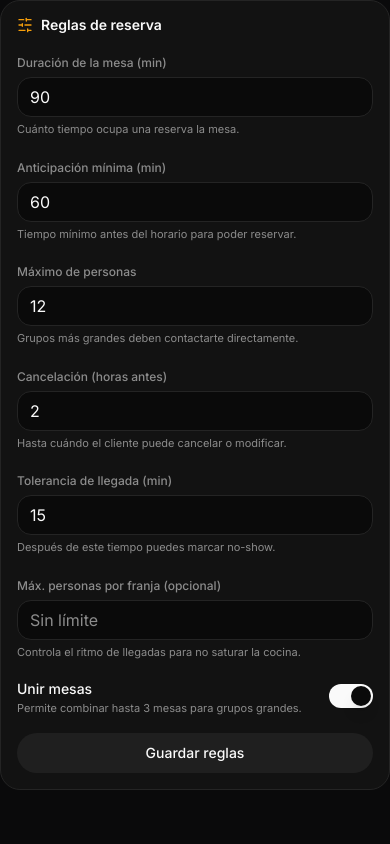
Test: ReservationRulesEditor number fields › applies the minimum only on blur, never while typing
The width and height of the screenshot is (390, 844).
Replace the text in the number field showing "90" below "Duración de la mesa (min)" with "5": (195,97) [17,77,373,117]
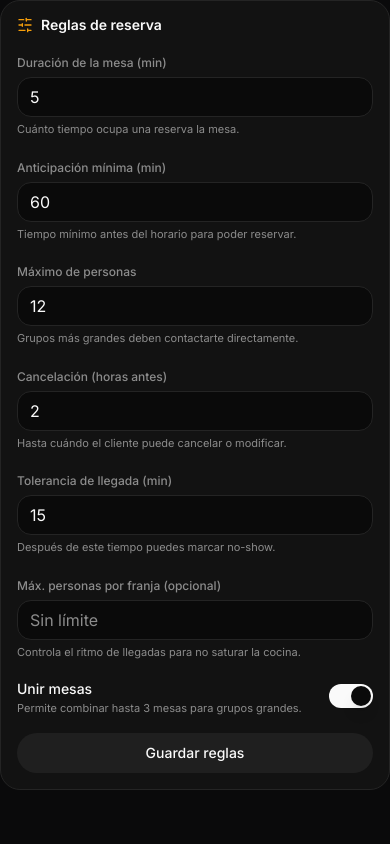
Leave the number field showing "90" below "Duración de la mesa (min)", box [17,77,373,117]
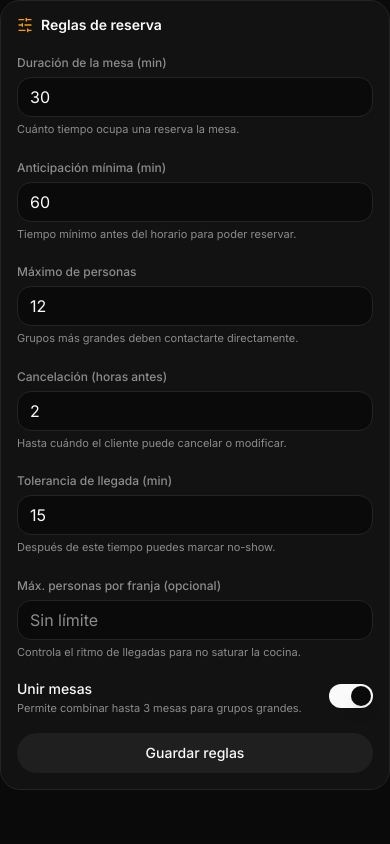
Result: the number field showing "90" below "Duración de la mesa (min)" holds "30" at [17,77,373,117]
